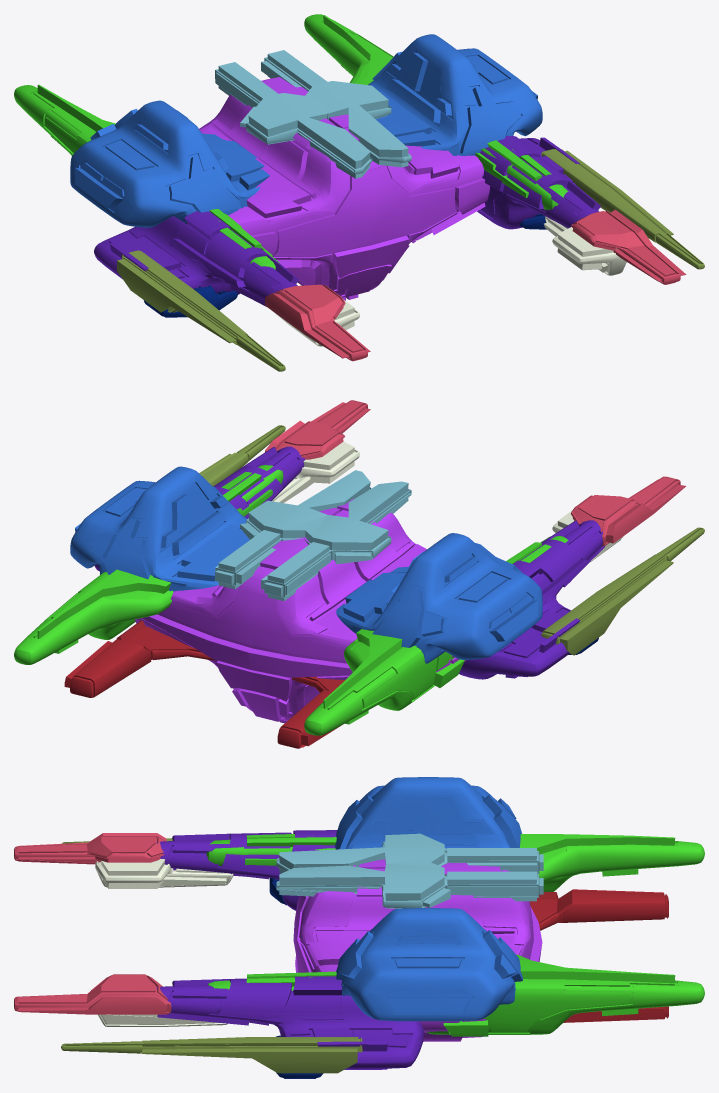
File: Spaceship_Human_V4.fbx
3 views of the same model, one above another, from view 1: azimuth 30°, elevation 25°; view 2: azimuth 150°, elevation 25°; view 3: azimuth 270°, elevation 25° (orthographic).
Parts seen in each view (by area): view 1: Shipwright; view 2: Shipwright; view 3: Shipwright.
Boxes of the visible parts, <box> form: Shipwright: <box>14,14,704,371</box>; Shipwright: <box>14,400,704,748</box>; Shipwright: <box>14,777,704,1078</box>.
Bounding box in the file's own units: 334 × 137 × 450.
